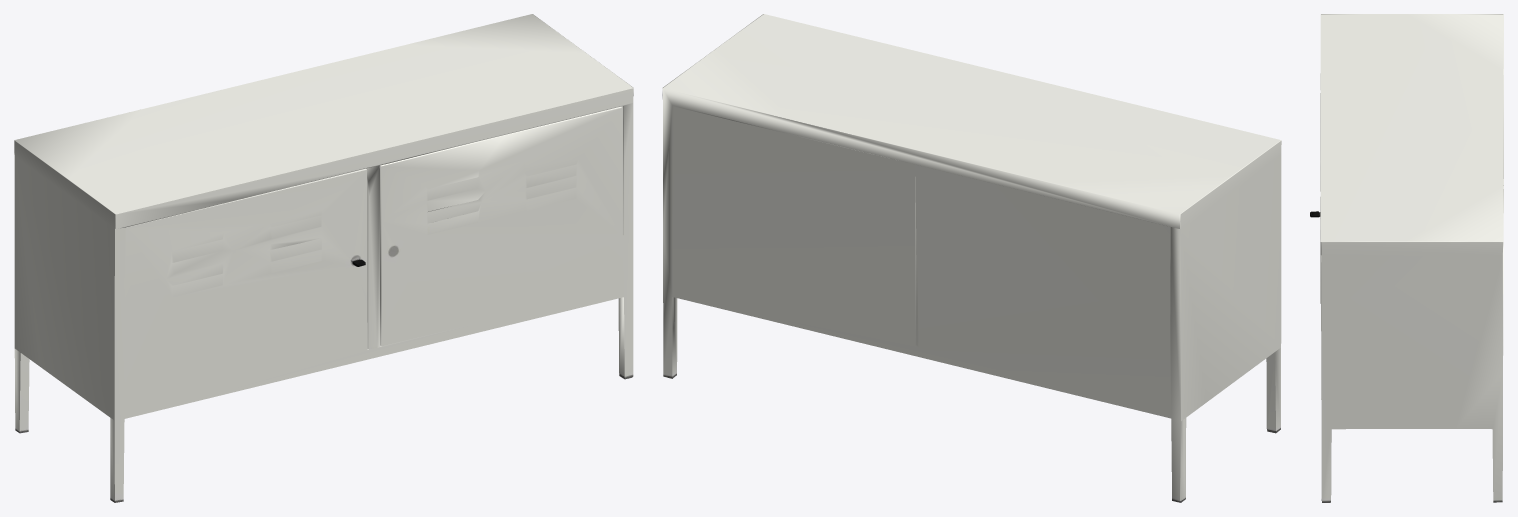
3 renders of one model, left to right at view 1: azimuth 30°, elevation 25°; view 2: azimuth 150°, elevation 25°; view 3: azimuth 270°, elevation 25°, orthographic. The views are drawn at different scales.
Parts seen in each view (by area): view 1: ProcessedMeshNode; view 2: ProcessedMeshNode; view 3: ProcessedMeshNode.
Part boxes in pixels (x1,y1,x2,y2): ProcessedMeshNode: [14, 14, 633, 502]; ProcessedMeshNode: [662, 14, 1281, 502]; ProcessedMeshNode: [1310, 14, 1503, 502].
Bounding box in the file's own units: 1.18 × 0.6314 × 0.4242.
Materials: 1 (1 with a texture image).
